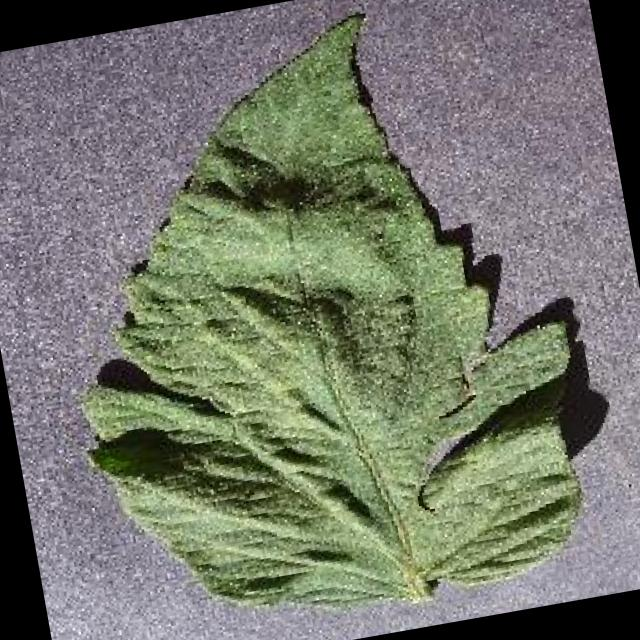Tomato_Healthy: (0, 0, 626, 640)
